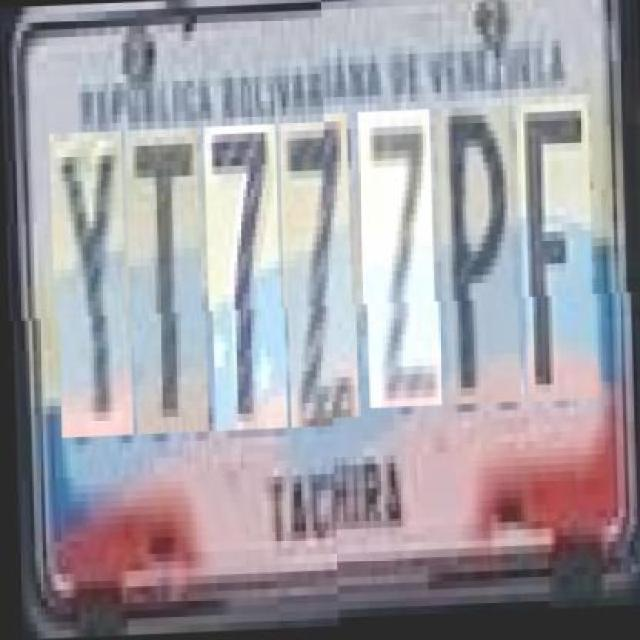7: (206, 126, 285, 432)
f: (518, 108, 598, 414)
p: (440, 118, 518, 417)
t: (126, 130, 206, 436)
y: (51, 132, 131, 438)
z: (281, 124, 357, 430), (361, 122, 439, 420)
